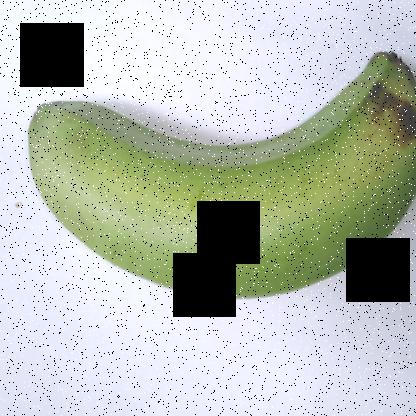freshunripe: (15, 35, 415, 317)
